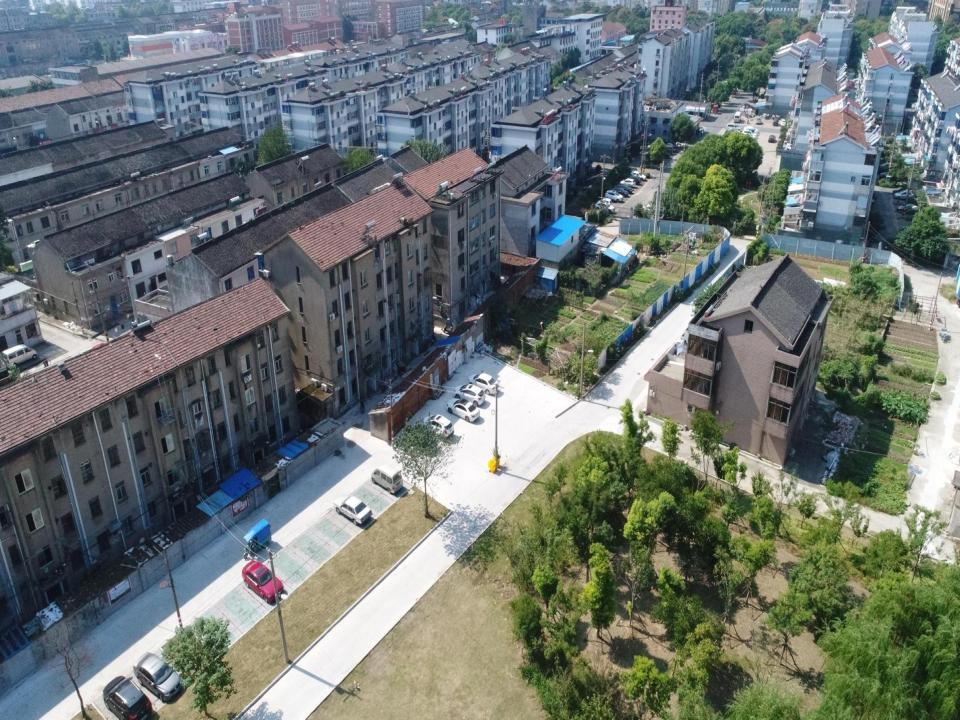car: (132, 650, 184, 703), (102, 675, 152, 719), (241, 558, 284, 605), (332, 492, 372, 526), (404, 424, 438, 452), (446, 397, 481, 423), (422, 413, 454, 440), (452, 384, 486, 406), (467, 374, 500, 395), (896, 202, 920, 216), (594, 201, 615, 214), (604, 190, 623, 203), (893, 190, 914, 201), (611, 186, 629, 197), (616, 184, 632, 195), (630, 170, 646, 181), (743, 126, 759, 136), (596, 197, 612, 206), (620, 178, 636, 187), (726, 124, 742, 132), (626, 175, 640, 184), (726, 127, 740, 136), (742, 132, 756, 141), (742, 130, 757, 138), (662, 142, 674, 150), (768, 134, 775, 143), (780, 118, 787, 127), (728, 90, 736, 96), (756, 117, 762, 124), (773, 118, 778, 126)
van: (370, 463, 404, 495), (1, 342, 39, 369), (734, 111, 741, 123)
